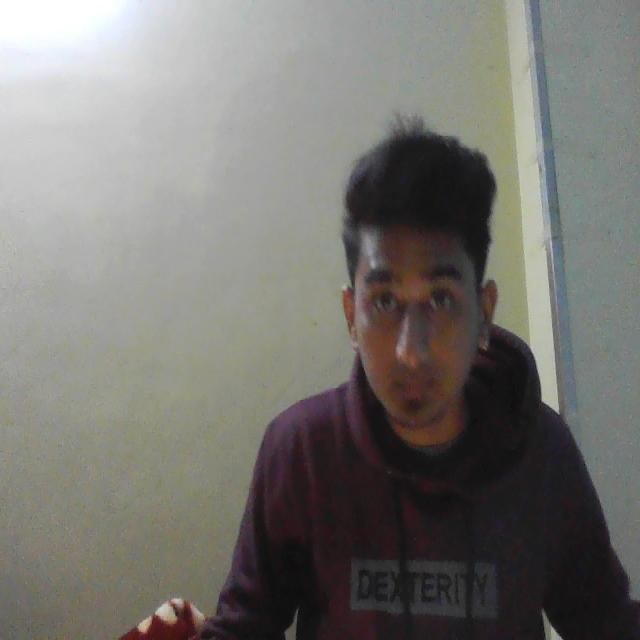real: (337, 132, 508, 456)
